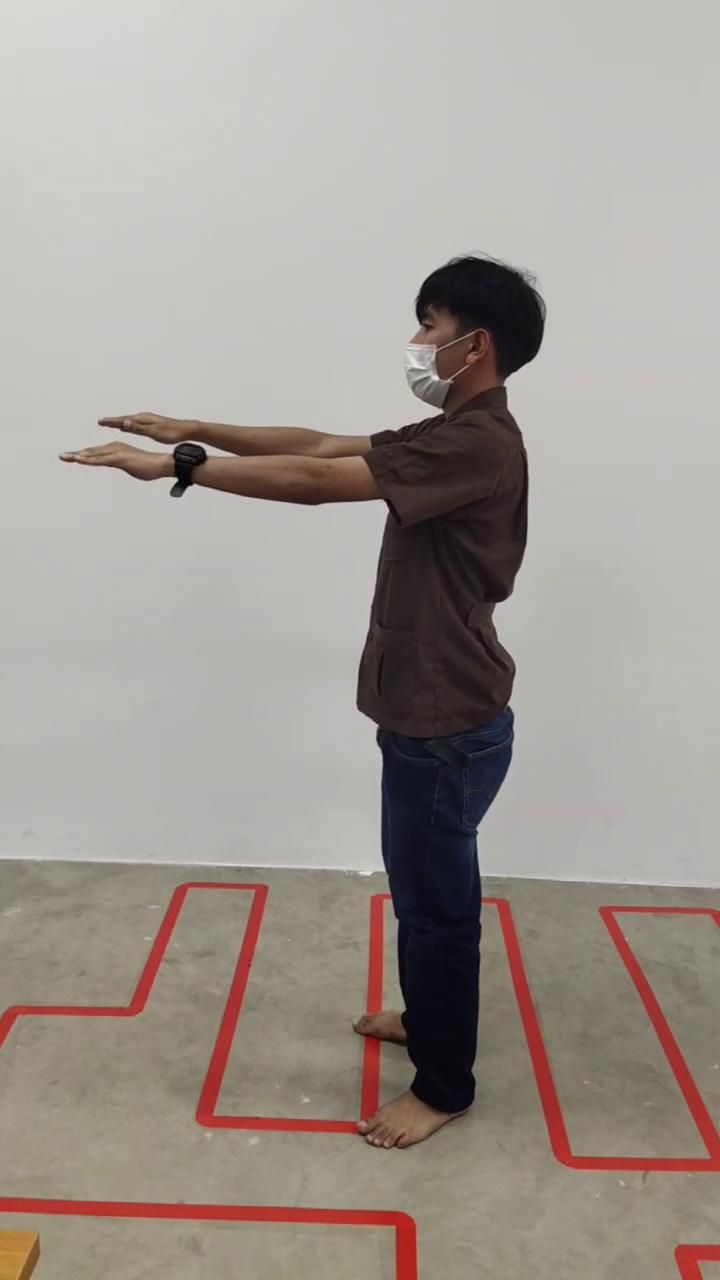squat up: (68, 255, 546, 1152)
